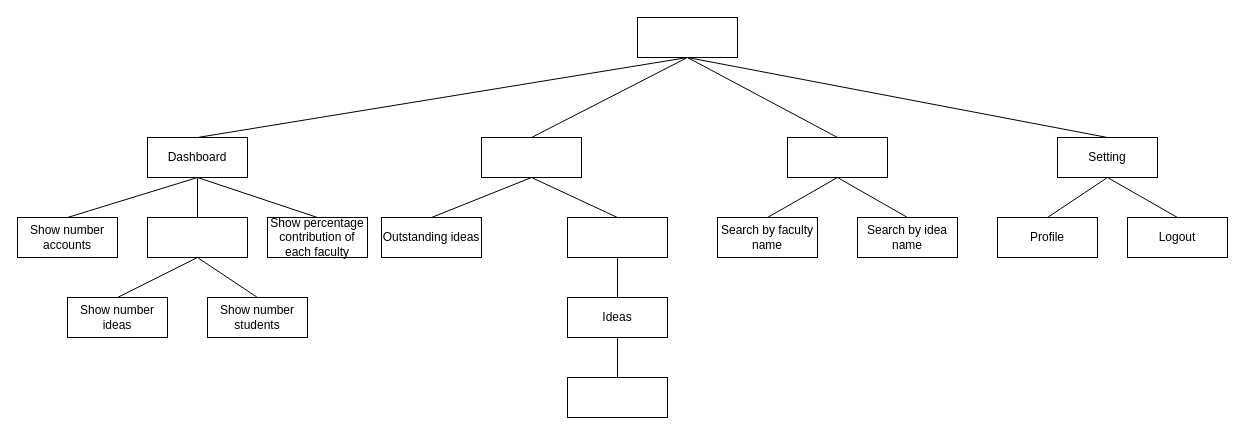
This 1245x435 diagram has some shape labels left out. The box of each missing label's shape, as (x1, y1, x2, y2) in pixels:
Download ideas (ZIP file): (566, 376, 668, 418)
Events: (480, 136, 582, 178)
Faculties: (566, 216, 668, 258)
Home: (636, 16, 738, 58)
Search: (786, 136, 888, 178)
Show number faculties: (146, 216, 248, 258)
